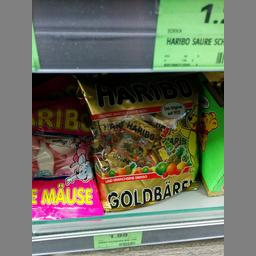candy: (79, 80, 200, 209), (31, 106, 104, 218)
